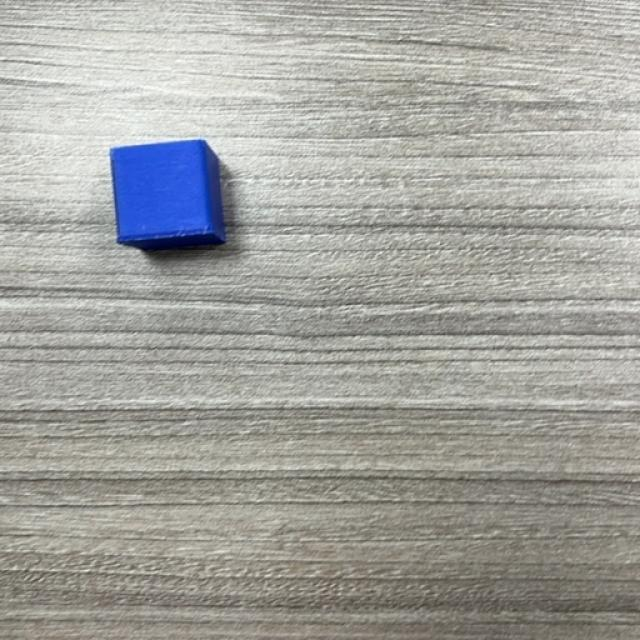Azul: (110, 140, 228, 251)
